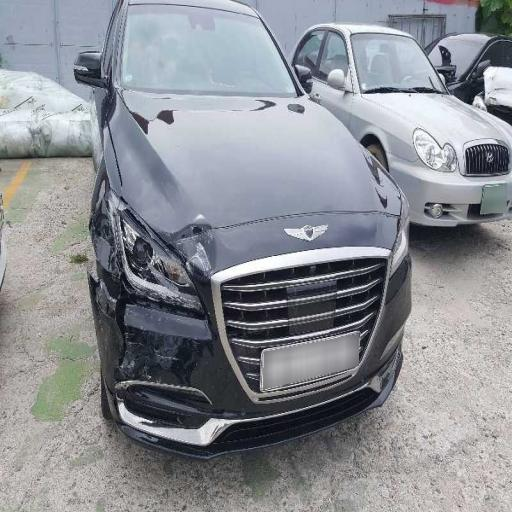broken: (79, 174, 205, 356)
dent: (98, 100, 226, 284)
scratch: (94, 325, 228, 418)
